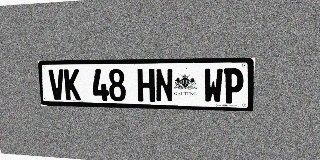4: (92, 69, 109, 101)
8: (108, 69, 126, 101)
H: (137, 69, 155, 102)
K: (64, 69, 81, 100)
N: (155, 69, 173, 102)
P: (223, 68, 244, 104)
V: (48, 69, 65, 100)
W: (203, 68, 223, 103)
